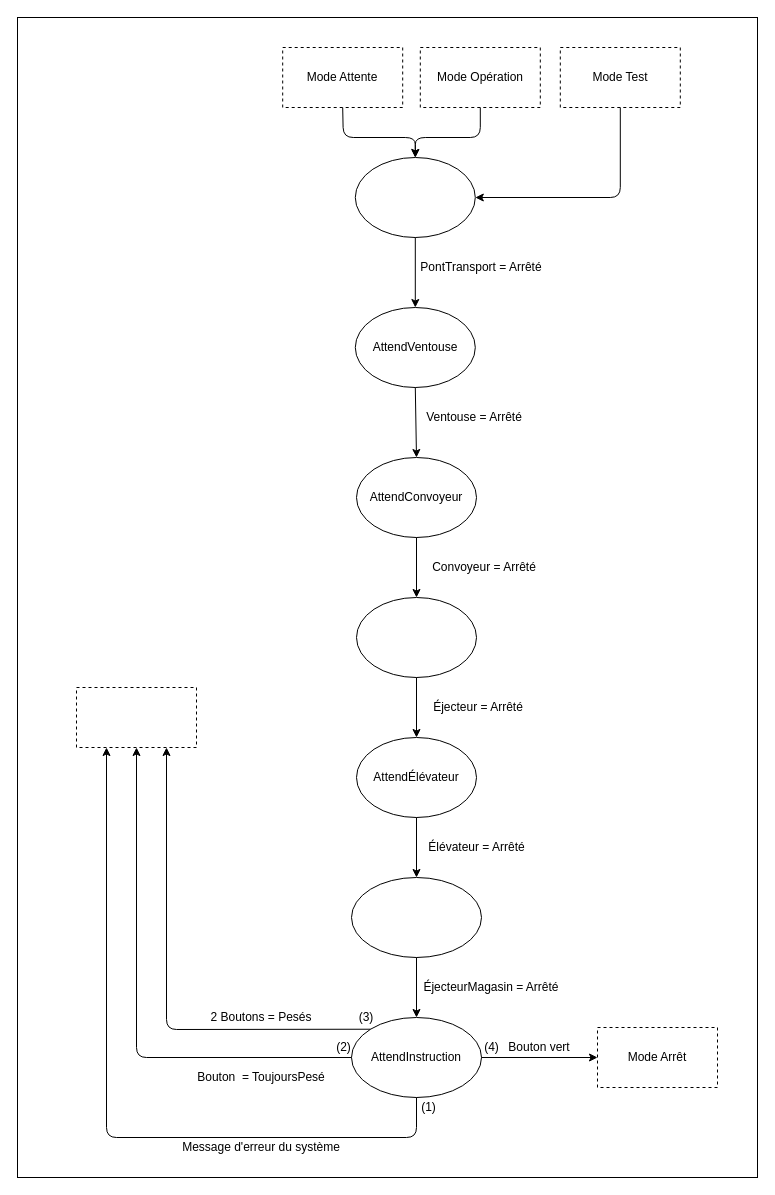
This 775x1195 diagram has some shape labels left out. Here are the shapes that lost their labels. From the top down, the centre of each, then its label:
pixel 414 197: AttendPontTransport
pixel 416 637: AttendÉjecteur
pixel 136 717: Mode Erreur
pixel 416 917: AttendÉjecteurMagasin
